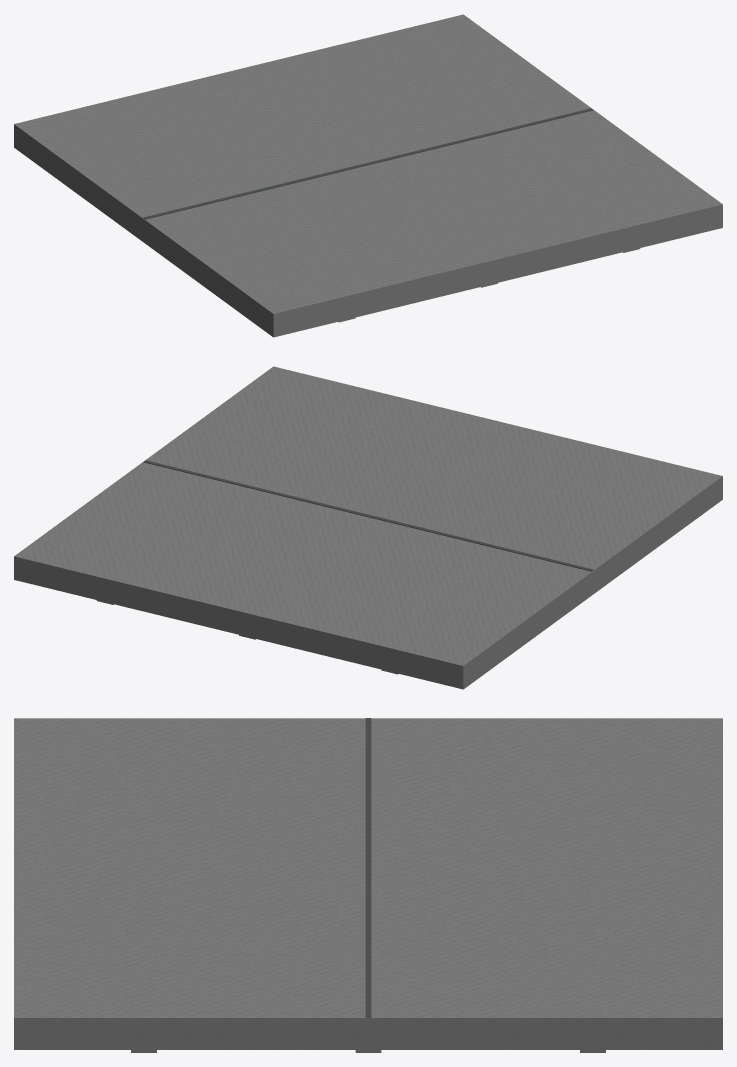
The model's file is car-park-and-road-vehicle-fleet-deck-slab-78730e37__32543.glb.
3 views of the same model, one above another, from view 1: azimuth 30°, elevation 25°; view 2: azimuth 150°, elevation 25°; view 3: azimuth 270°, elevation 25° (orthographic). The views are drawn at different scales.
Parts seen in each view (by area): view 1: deck-slab; view 2: deck-slab; view 3: deck-slab.
Part boxes in pixels (x1,y1,x2,y2): deck-slab: [14, 14, 722, 337]; deck-slab: [14, 366, 722, 689]; deck-slab: [14, 718, 722, 1052].
Size of the model in its own units: 6 by 0.4279 by 6.
2 materials, 1 textured.
